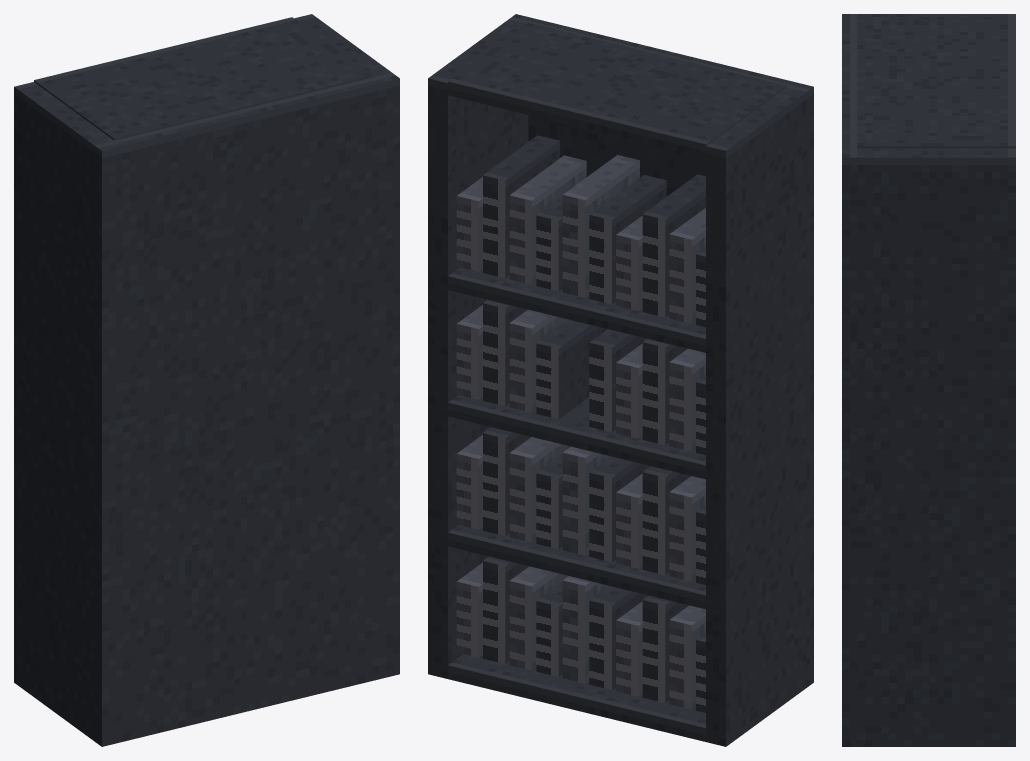
The model's file is f_vitrified_bookcase_talker.glb.
The picture shows the model from 3 angles, left to right: view 1: azimuth 30°, elevation 25°; view 2: azimuth 150°, elevation 25°; view 3: azimuth 270°, elevation 25°; orthographic projection.
Visible parts, largest first — view 1: block_back, block_side--0.42000000000000004, block_shelf-4, block_side-0.42000000000000004; view 2: block_fused-inscribed-book-spine (×39), block_side--0.42000000000000004, block_side-0.42000000000000004, block_shelf-4, block_back, block_shelf-0, block_shelf-2, block_shelf-3, block_shelf-1; view 3: block_side-0.42000000000000004, block_shelf-4, block_back, block_side--0.42000000000000004.
Boxes of the visible parts, box(x1,y1,x2,y2) form: block_back: box(94, 73, 399, 746); block_side--0.42000000000000004: box(14, 82, 113, 740); block_shelf-4: box(34, 17, 372, 140); block_side-0.42000000000000004: box(294, 14, 391, 77); block_fused-inscribed-book-spine (×39): box(456, 135, 705, 712); block_side--0.42000000000000004: box(706, 87, 806, 746); block_side-0.42000000000000004: box(428, 19, 528, 678); block_shelf-4: box(448, 22, 786, 158); block_back: box(508, 14, 813, 687); block_shelf-0: box(448, 654, 705, 741); block_shelf-2: box(448, 395, 705, 479); block_shelf-3: box(448, 267, 705, 352); block_shelf-1: box(448, 525, 705, 609); block_side-0.42000000000000004: box(857, 148, 1015, 746); block_shelf-4: box(857, 22, 1015, 148); block_back: box(842, 14, 857, 746); block_side--0.42000000000000004: box(857, 14, 1015, 21).
Bounding box in the file's own units: 0.9 × 1.73 × 0.46.
2 materials, 2 textured.
